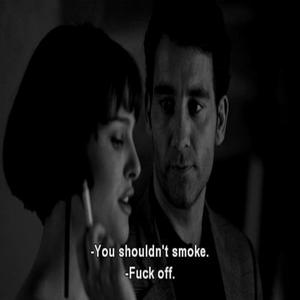cigarette: (82, 179, 95, 231)
